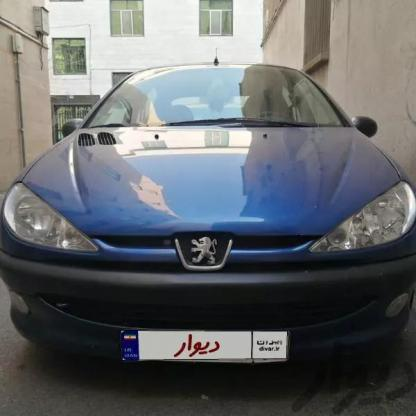Car: (0, 64, 416, 388)
